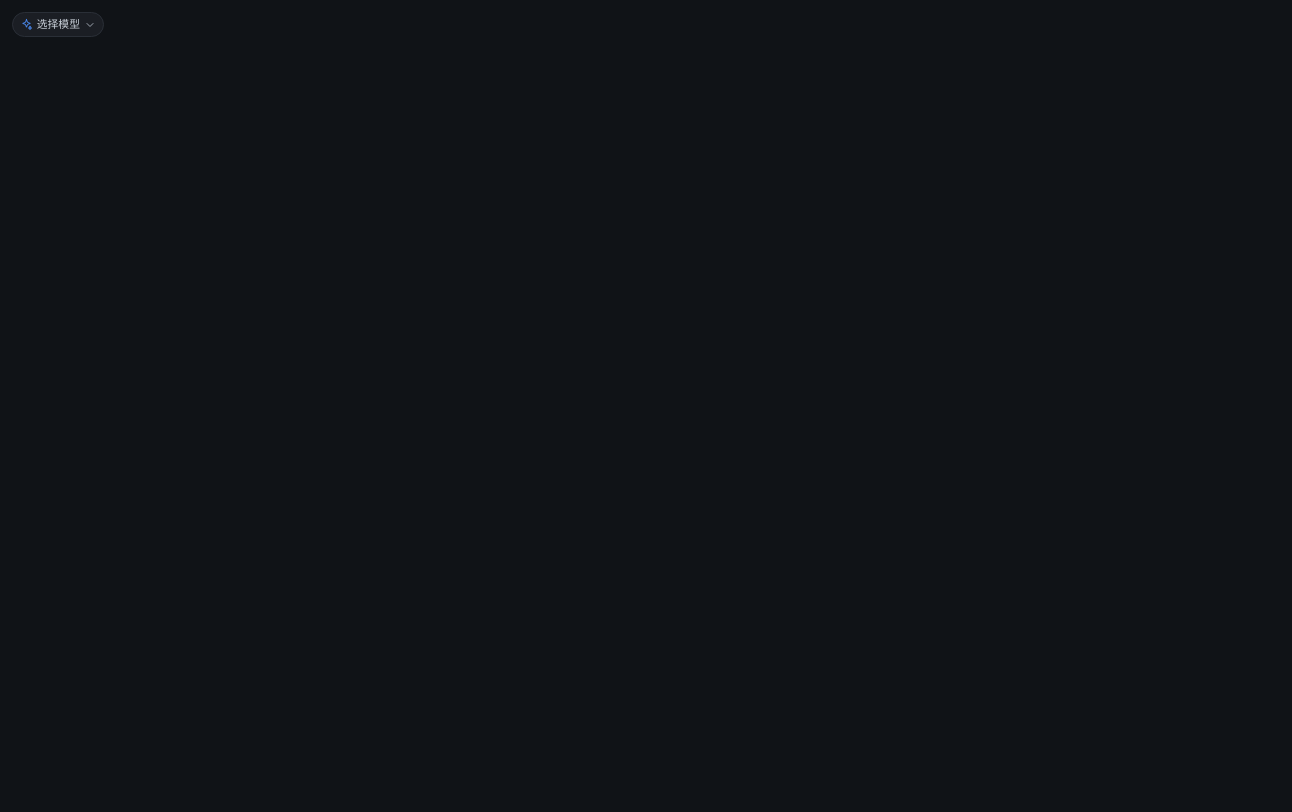
Scenario: ComposerQuickAccess › 点击面板外部 / 按 Esc 都收起
This screenshot has width=1292, height=812.
Click the button with aria-label "模型与用量": (58, 25) left=12, top=12, right=104, bottom=37
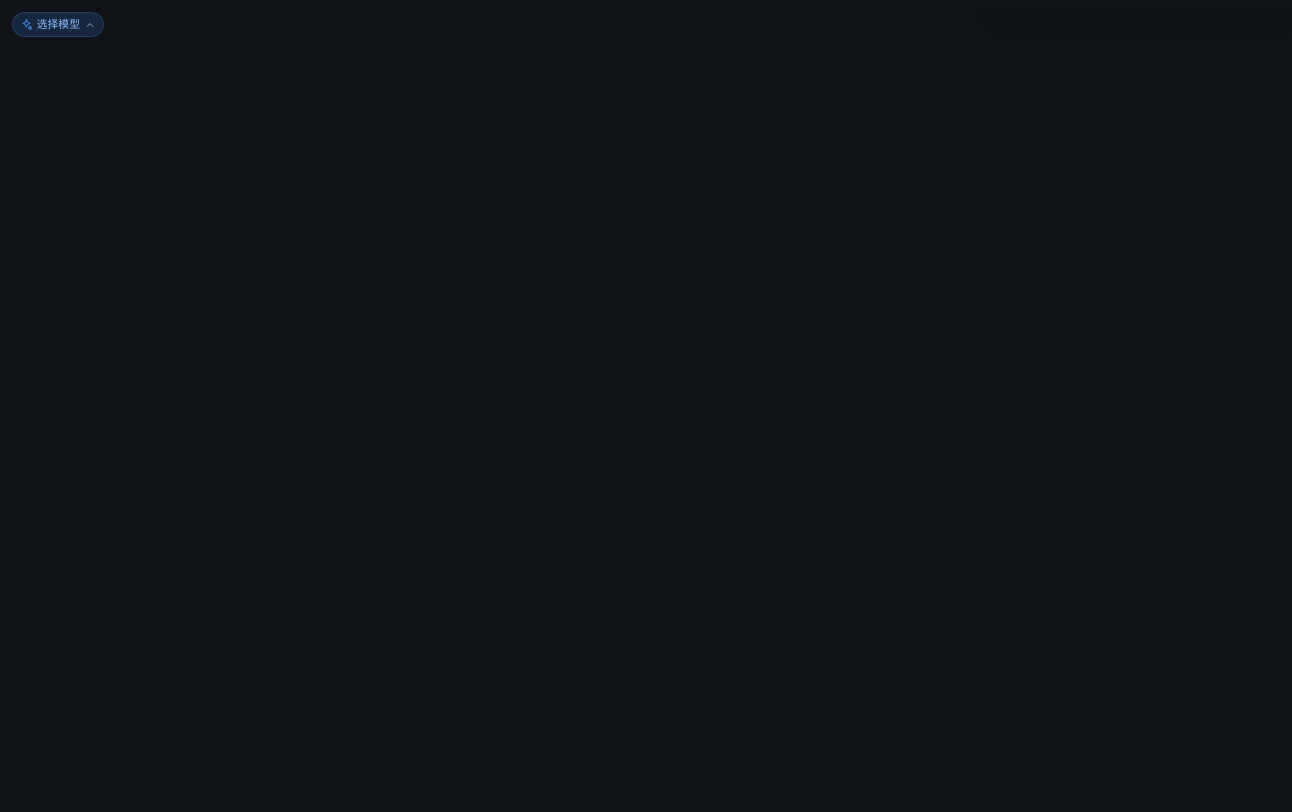
Press the mouse on the element showing "选择模型 模型 读取中… 加载模型列表… 近 7 天用量 明细 读取中… 切换后作用于下一次运行 前往设置管理": (652, 412) left=12, top=12, right=1291, bottom=811
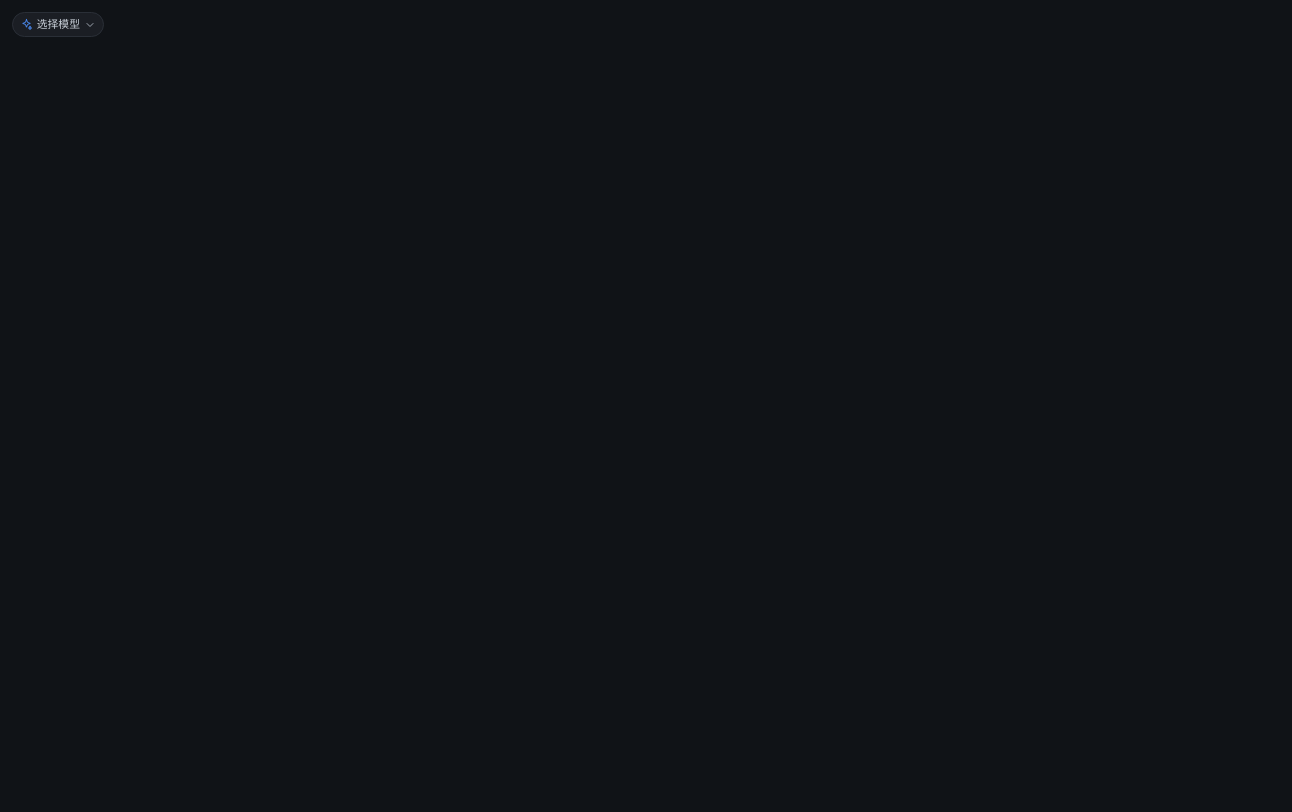
Result: the link "前往设置管理" is gone
Click the button with aria-label "模型与用量": (58, 25) left=12, top=12, right=104, bottom=37
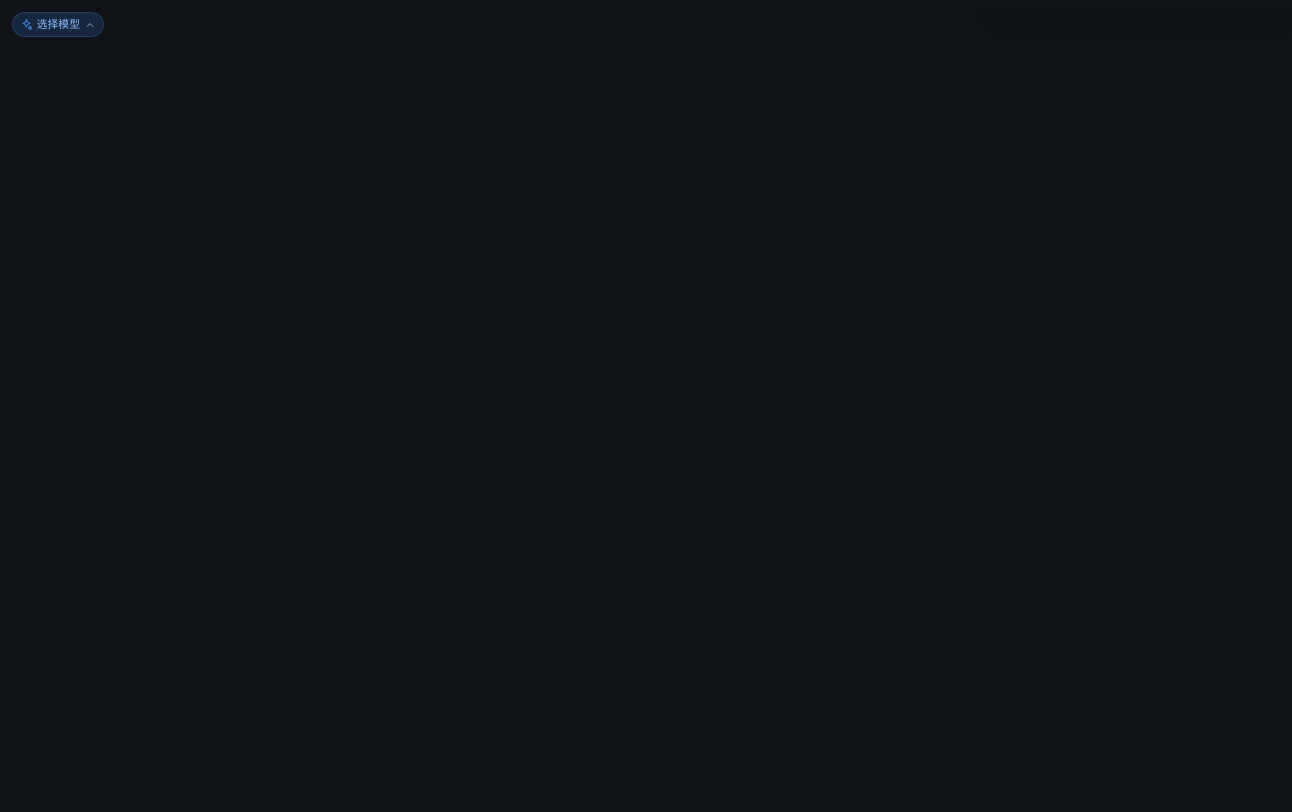
Press Escape
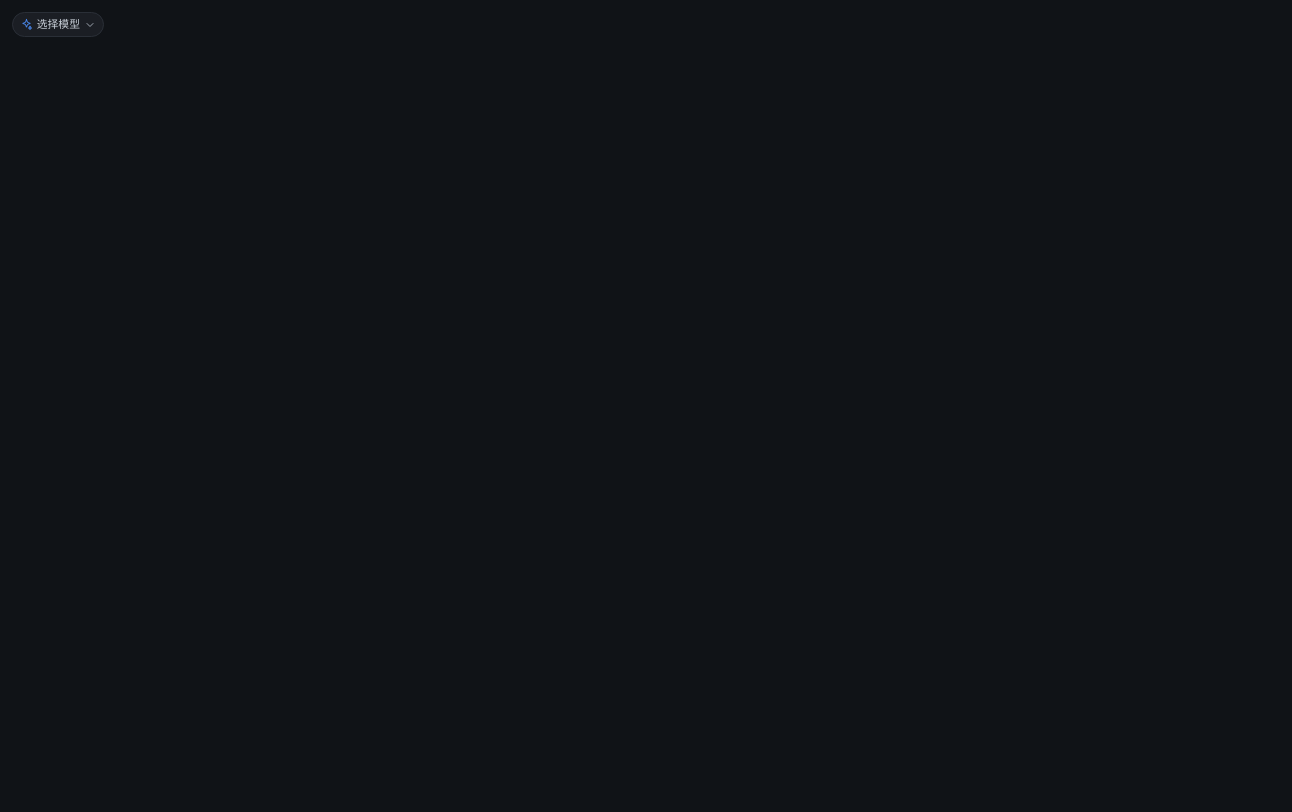
Result: the link "前往设置管理" is gone
